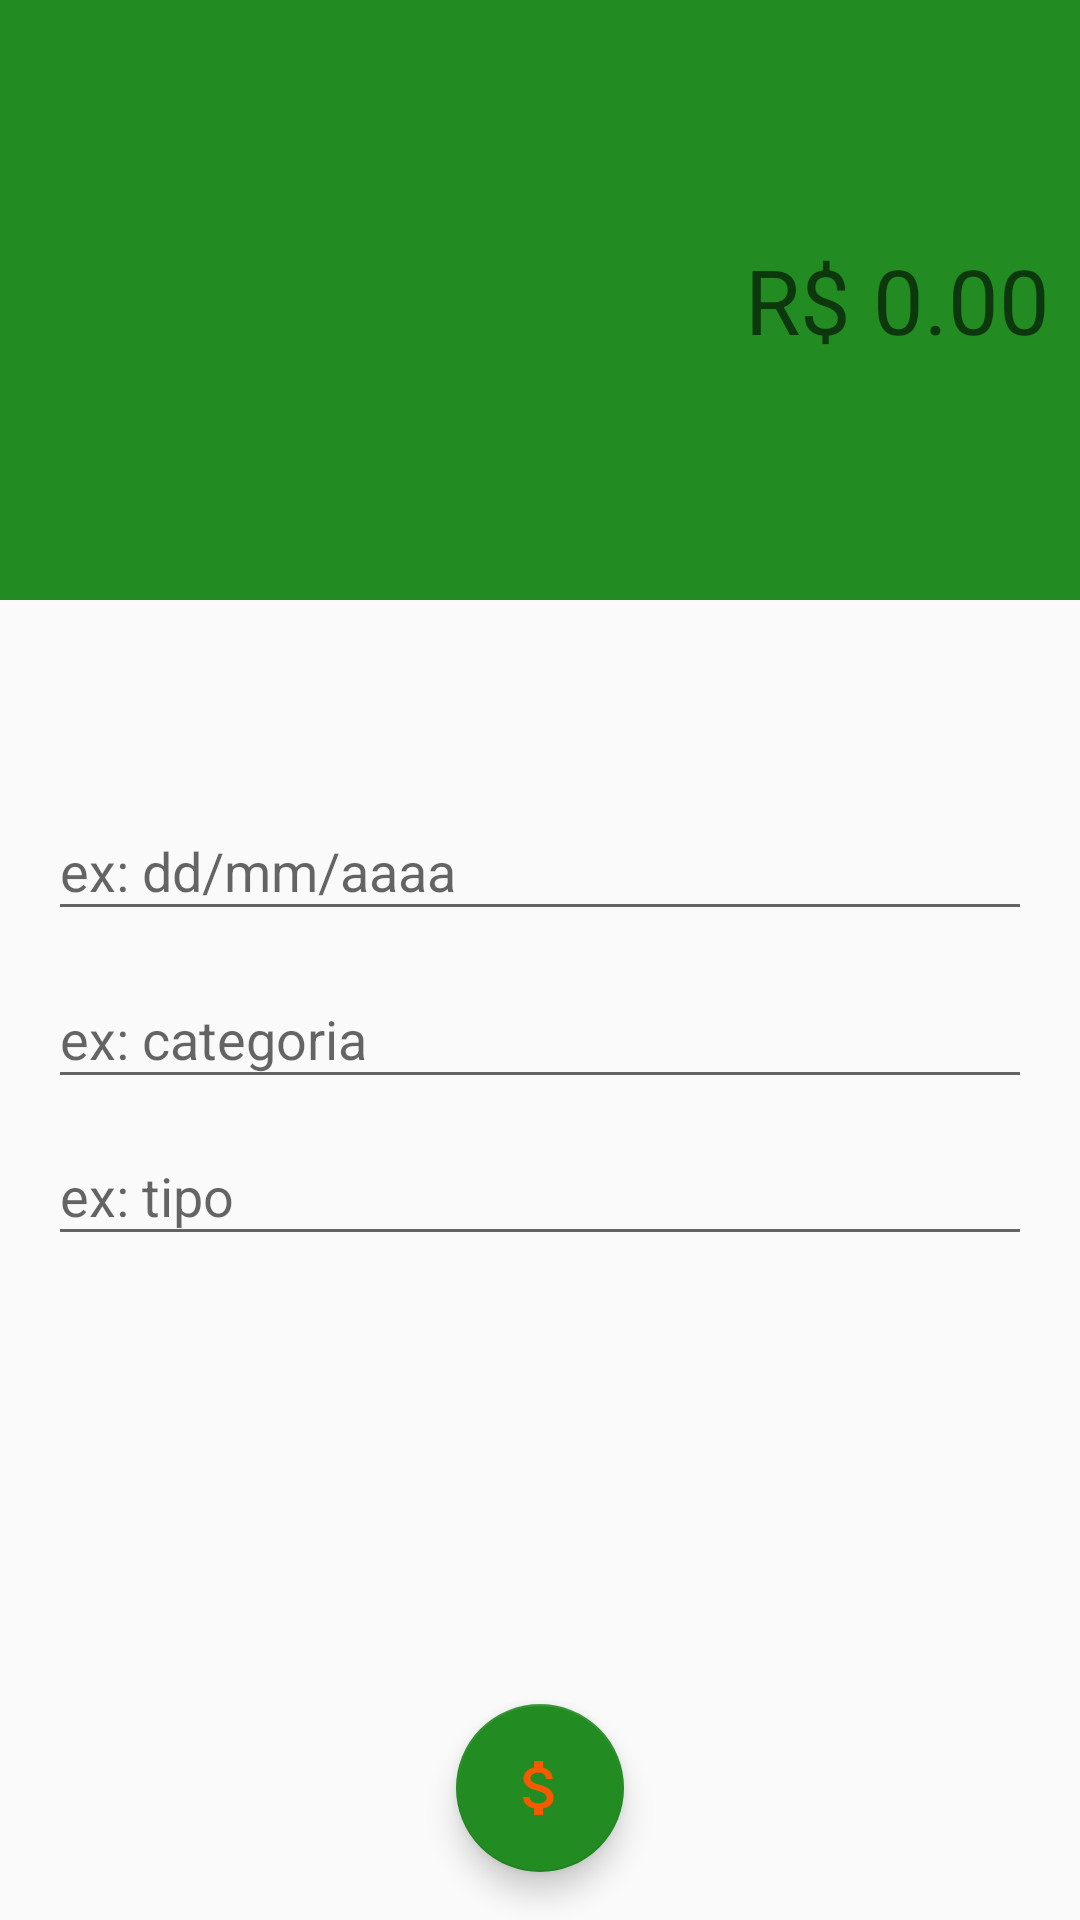

Icons on this 1080 × 1920 Android screen, each with its box as (x1=x1, y1=y1, x2=x2, y2=y2):
entrada: (x1=456, y1=1704, x2=624, y2=1872)
